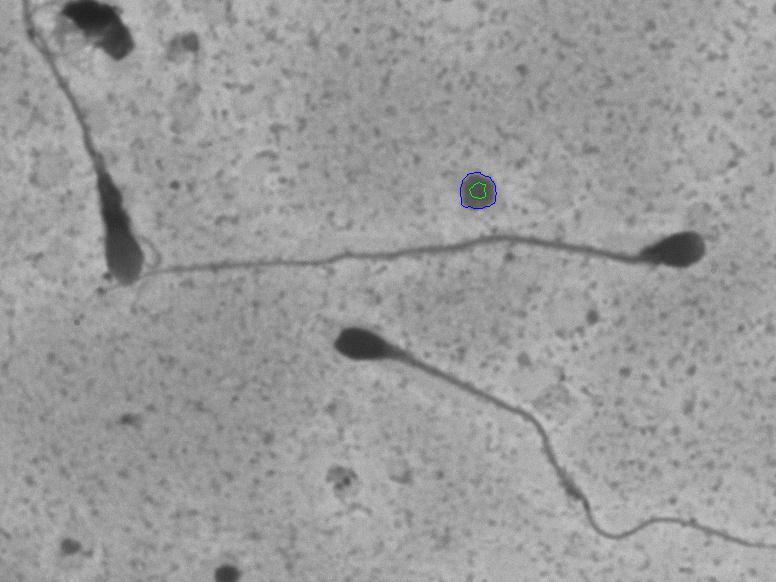Abnormal: (310, 325, 705, 564), (137, 193, 728, 323), (15, 50, 230, 308)
